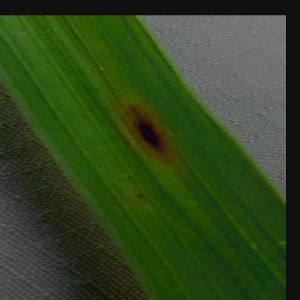Bacterial_Leaf_Blight: (112, 95, 188, 170), (128, 187, 154, 202)
